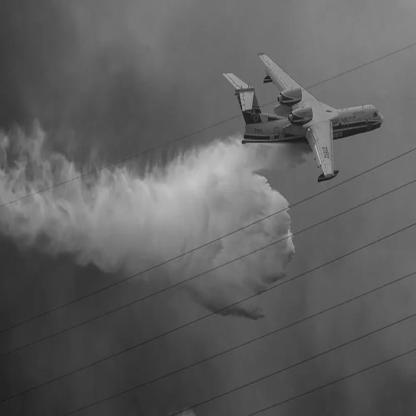Be200: (224, 53, 386, 183)
